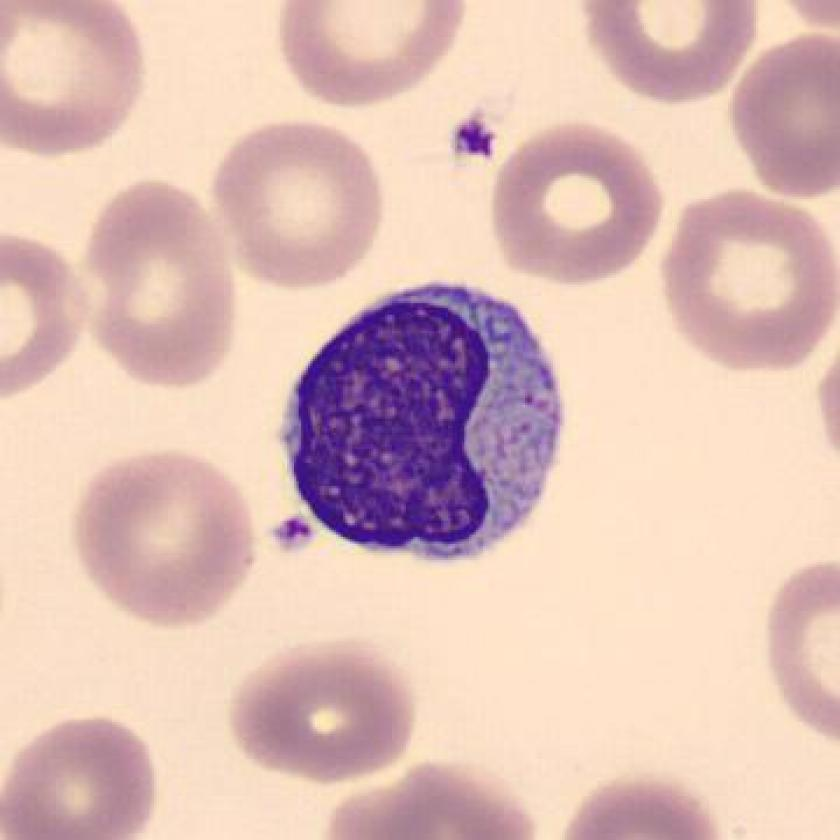lymphocyte: (263, 265, 578, 579)
